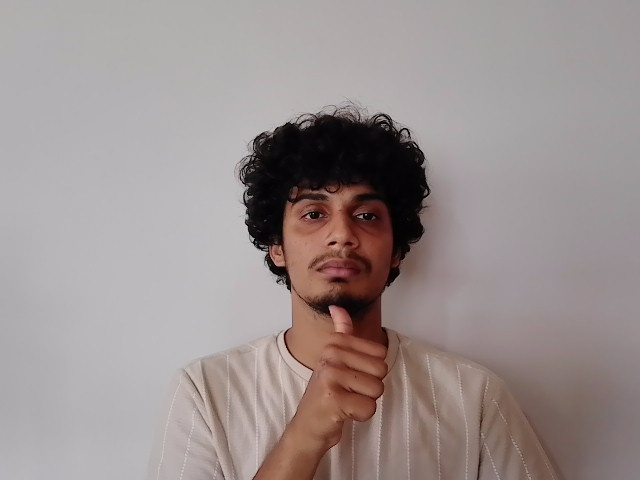not: (290, 287, 395, 422)
